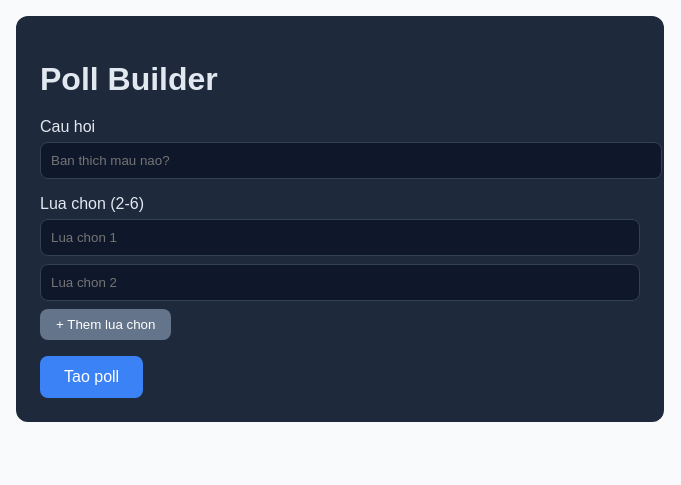
CreatePoll › hiện lỗi khi API create thất bại
The width and height of the screenshot is (681, 485).
In the field with placeholder "Ban thich mau nao?": [351, 161] box x1=40 y1=142 x2=662 y2=179, type "Bạn thích màu gì?"
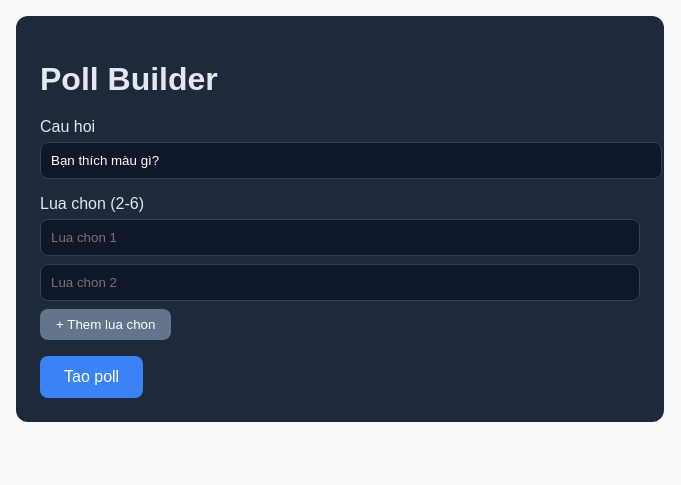
In the field with placeholder "Lua chon 1": [340, 238] box x1=40 y1=219 x2=640 y2=256, type "Đỏ"
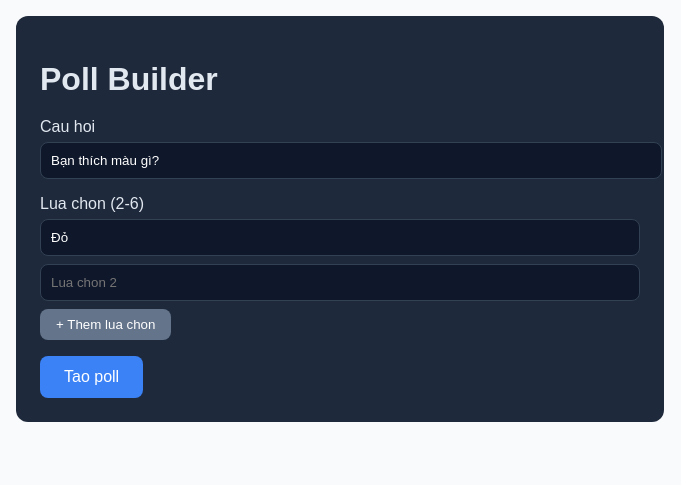
In the field with placeholder "Lua chon 2": [340, 283] box x1=40 y1=264 x2=640 y2=301, type "Xanh"
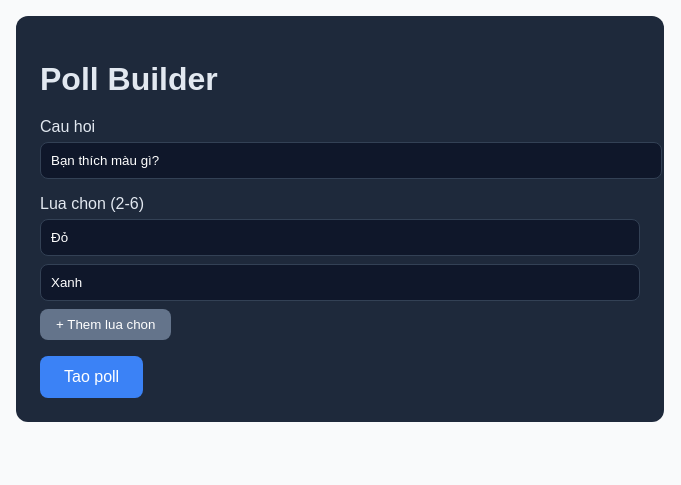
Click the button "Tao poll": [92, 377] box x1=40 y1=356 x2=143 y2=398
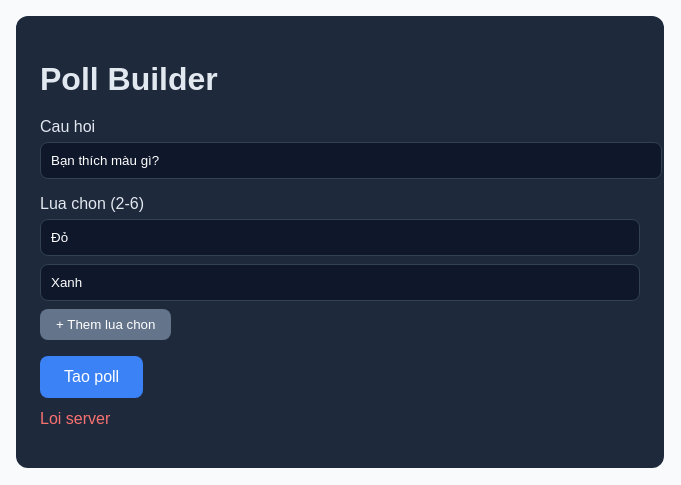
Result: the text "Loi server" is shown at x1=40 y1=410 x2=110 y2=427
